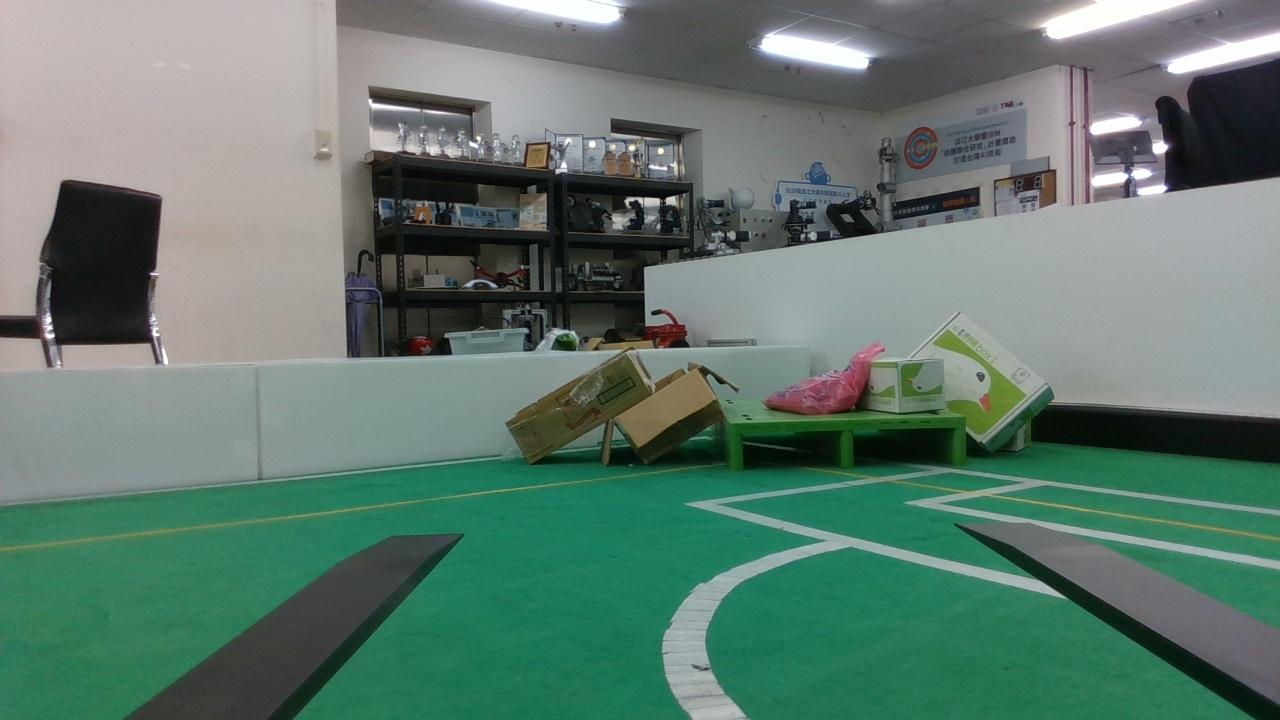Pallet: (728, 415, 966, 472)
